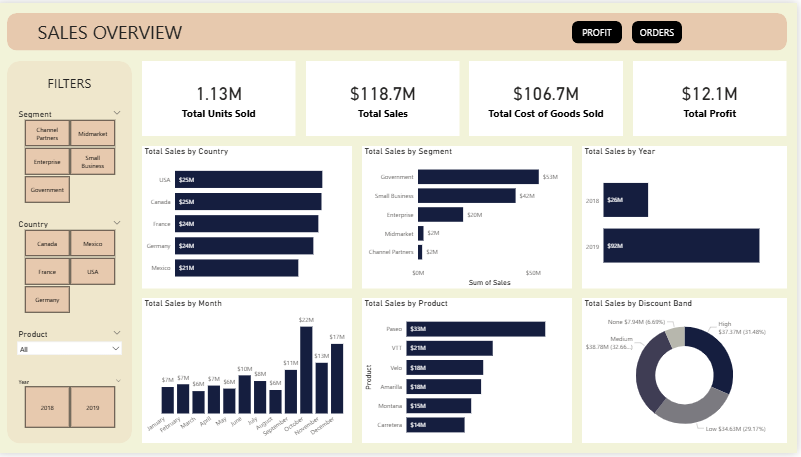

The page's visual inventory and layout, read from the dashboard file:
{"tool":"powerbi","page":{"name":"Sales","canvas":[1600,900],"ordinal":0},"visuals":[{"type":"shape","box":[20,20,1560,75],"z":0,"group":"g1"},{"type":"shape","box":[20.4,115,250,765],"z":0},{"type":"card","fields":{"Values":["Sum(Table1_1.Profit)"]},"box":[1271,115,307,150],"z":1000},{"type":"card","fields":{"Values":["Sum(Table1_1.COGS)"]},"box":[944,115,308,150],"z":2000},{"type":"card","fields":{"Values":["Sum(Table1_1. Sales)"]},"box":[617,115,307,150],"z":3000},{"type":"card","fields":{"Values":["Sum(Table1_1.Units Sold)"]},"box":[290,115,307,150],"z":4000},{"type":"barChart","title":"Total Sales by Country","fields":{"Category":["Table1_1.Country"],"Y":["Sum(Table1_1. Sales)"]},"box":[290,285,420,285],"z":5000},{"type":"barChart","title":"Total Sales by Segment","fields":{"Category":["Table1_1.Segment"],"Y":["Sum(Table1_1. Sales)"]},"box":[730,285,420,285],"z":6000},{"type":"slicer","fields":{"Values":["Table1_1.Country"]},"box":[30,425,230,200],"z":7000},{"type":"slicer","fields":{"Values":["Table1_1.Segment"]},"box":[30,205,230,200],"z":8000},{"type":"slicer","fields":{"Values":["Table1_1.Product"]},"box":[30,645,230,80],"z":9000},{"type":"barChart","title":"Total Sales by Year","fields":{"Category":["Table1_1.Date.Variation.Date Hierarchy.Year"],"Y":["Sum(Table1_1. Sales)"]},"box":[1170,285,410,285],"z":10000},{"type":"columnChart","title":"Total Sales by Month","fields":{"Category":["Table1_1.Date.Variation.Date Hierarchy.Year","Table1_1.Date.Variation.Date Hierarchy.Month"],"Y":["Sum(Table1_1. Sales)"]},"box":[290,590,420,290],"z":11000},{"type":"barChart","title":"Total Sales by Product","fields":{"Category":["Table1_1.Product"],"Y":["Sum(Table1_1. Sales)"]},"box":[730,590,420,290],"z":12000},{"type":"donutChart","title":"Total Sales by Discount Band","fields":{"Series":["Table1_1.Discount Band"],"Y":["Sum(Table1_1. Sales)"]},"box":[1170,590,410,290],"z":13000},{"type":"slicer","fields":{"Values":["Table1_1.Date.Variation.Date Hierarchy.Year"]},"box":[30,745,230,110],"z":14000},{"type":"group","id":"g1","title":"Group 1","box":[20,20,1560,75],"z":15000},{"type":"textbox","box":[75,25,350,65],"z":15002,"group":"g1"},{"type":"actionButton","box":[1150,35,100,45],"z":16000},{"type":"actionButton","box":[1270,35,100,45],"z":17000},{"type":"textbox","box":[20,135,250,50],"z":18000}]}

Visuals, with their boxes in screenshot pixels (x1, y1, x2, y2), scaled from the page's 1600x900 canvas onto the 801x457 screenshot:
shape: detection(10, 10, 791, 48)
shape: detection(10, 58, 135, 447)
card - Sum(Table1_1.Profit): detection(636, 58, 790, 135)
card - Sum(Table1_1.COGS): detection(473, 58, 627, 135)
card - Sum(Table1_1. Sales): detection(309, 58, 463, 135)
card - Sum(Table1_1.Units Sold): detection(145, 58, 299, 135)
"Total Sales by Country" barChart: detection(145, 145, 355, 289)
"Total Sales by Segment" barChart: detection(365, 145, 576, 289)
slicer - Table1_1.Country: detection(15, 216, 130, 317)
slicer - Table1_1.Segment: detection(15, 104, 130, 206)
slicer - Table1_1.Product: detection(15, 328, 130, 368)
"Total Sales by Year" barChart: detection(586, 145, 791, 289)
"Total Sales by Month" columnChart: detection(145, 300, 355, 447)
"Total Sales by Product" barChart: detection(365, 300, 576, 447)
"Total Sales by Discount Band" donutChart: detection(586, 300, 791, 447)
slicer - Table1_1.Date.Variation.Date Hierarchy.Year: detection(15, 378, 130, 434)
"Group 1" group: detection(10, 10, 791, 48)
textbox: detection(38, 13, 213, 46)
actionButton: detection(576, 18, 626, 41)
actionButton: detection(636, 18, 686, 41)
textbox: detection(10, 69, 135, 94)
